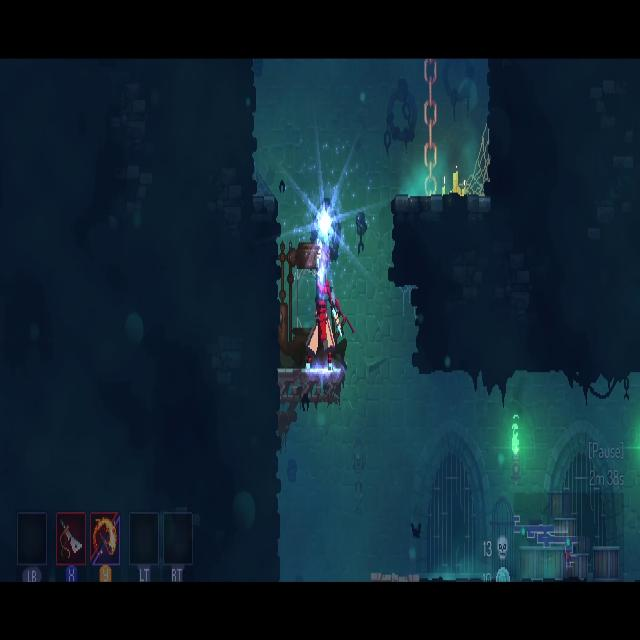agents: (307, 273, 343, 377)
